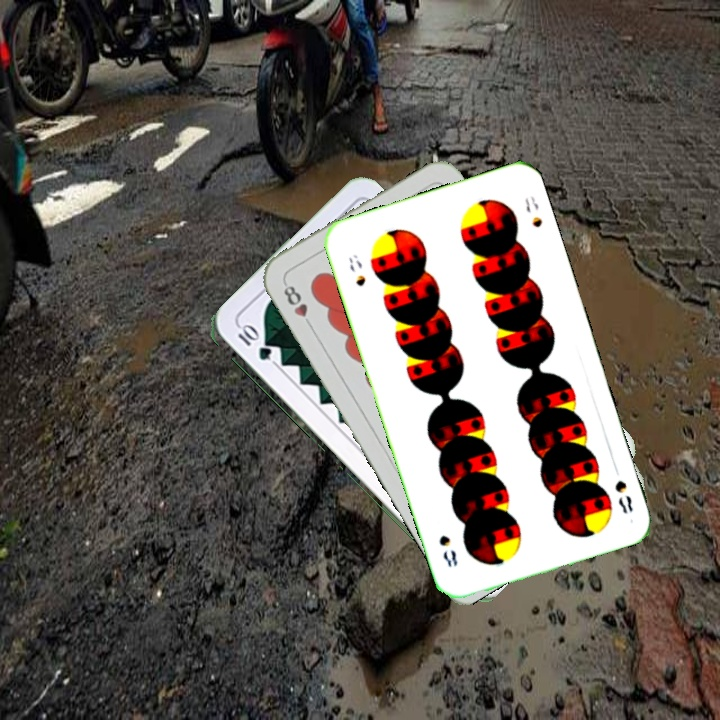G10: (233, 322, 273, 363)
H8: (279, 278, 316, 331)
S8: (611, 476, 636, 517), (345, 250, 369, 289)
